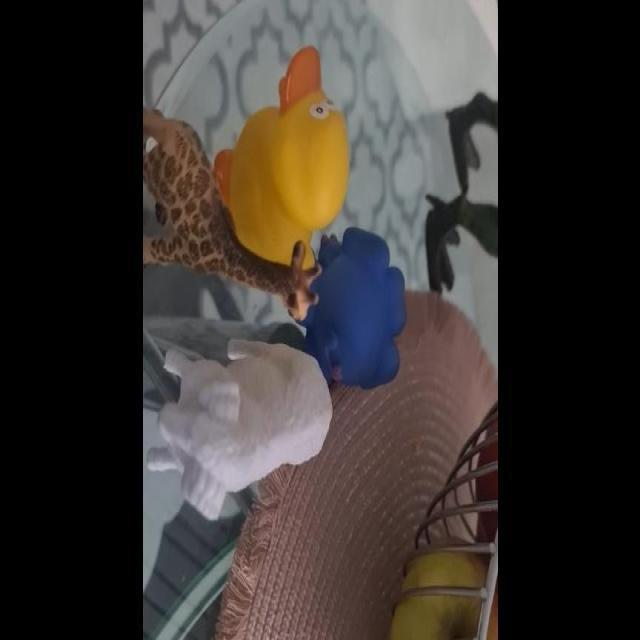hard-toy: (161, 341, 334, 520), (215, 47, 350, 270), (145, 111, 297, 299), (301, 229, 407, 389)
